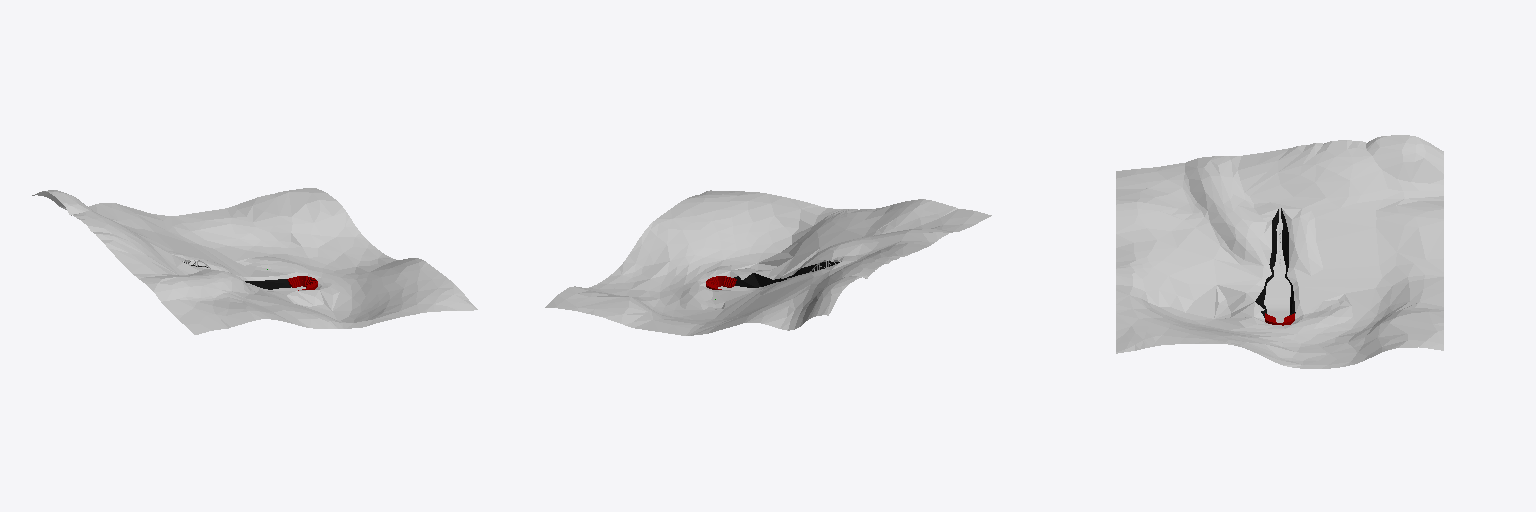
The picture shows the model from 3 angles: view 1: azimuth 30°, elevation 25°; view 2: azimuth 150°, elevation 25°; view 3: azimuth 270°, elevation 25°; orthographic projection.
Visible parts, largest first — view 1: MOUNTAIN_Mesh.026; view 2: MOUNTAIN_Mesh.026; view 3: MOUNTAIN_Mesh.026, LANDING_Mesh.028.
Boxes of the visible parts, x1,y1,x2,y2 form: MOUNTAIN_Mesh.026: [32, 188, 477, 334]; MOUNTAIN_Mesh.026: [545, 190, 991, 335]; MOUNTAIN_Mesh.026: [1116, 135, 1443, 368]; LANDING_Mesh.028: [1264, 219, 1290, 322].
Size of the model in its own units: 1007 by 346 by 1000.